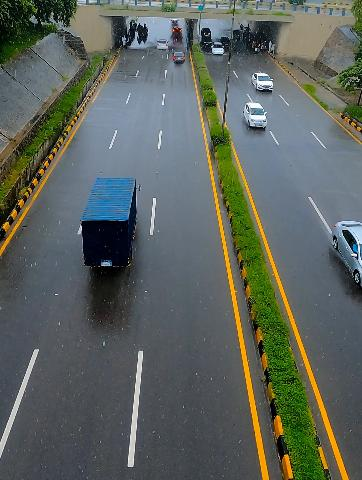car: (331, 217, 362, 290), (244, 101, 270, 134), (252, 67, 278, 96), (170, 50, 191, 66), (211, 41, 223, 57), (158, 39, 168, 49)
van: (81, 176, 143, 271)
